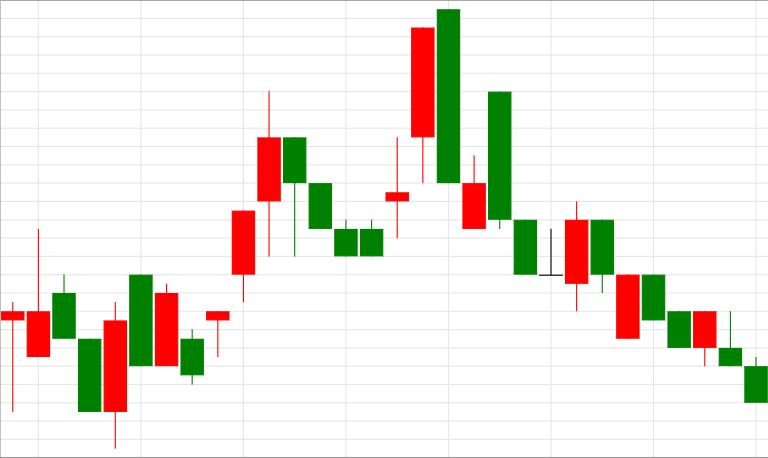bearish_engulfing_fall: (334, 9, 461, 256)
three_black_crows_fall: (181, 91, 357, 385)
